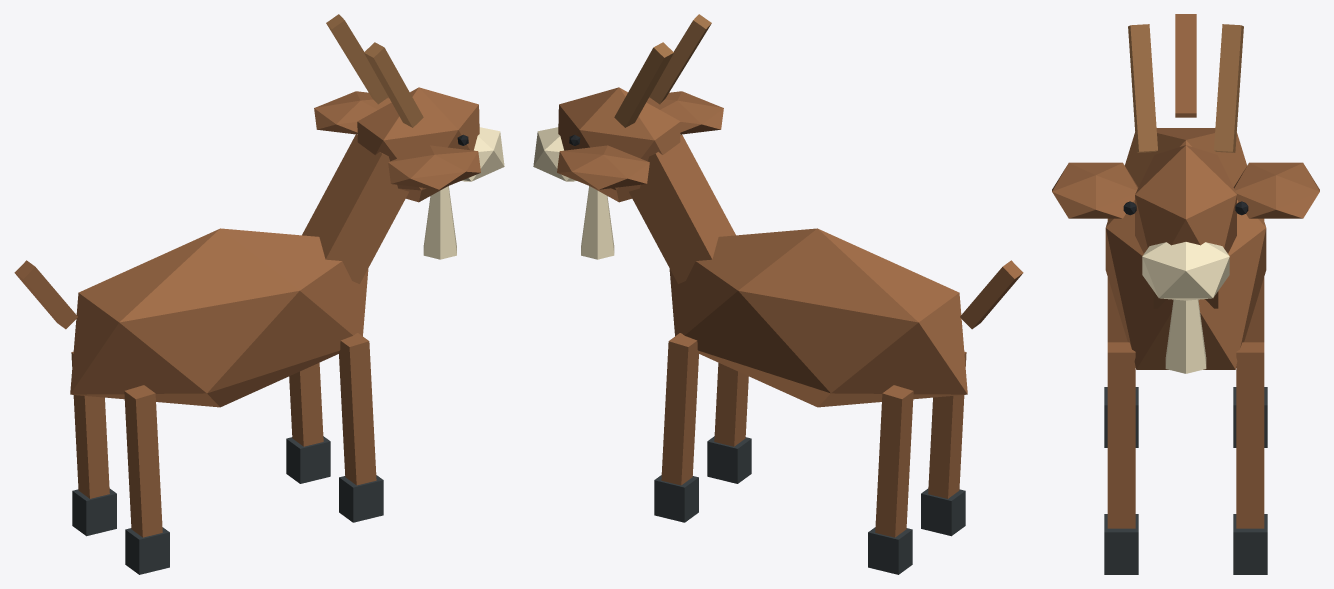
The model's file is TR3_Goat_brown.glb.
The picture shows the model from 3 angles, left to right: view 1: azimuth 30°, elevation 25°; view 2: azimuth 150°, elevation 25°; view 3: azimuth 270°, elevation 25°; orthographic projection. The views are drawn at different scales.
Visible parts, largest first — view 1: TR3_Goat_brown; view 2: TR3_Goat_brown; view 3: TR3_Goat_brown.
Part boxes in pixels (bbox=[...]): TR3_Goat_brown: bbox=[14, 14, 504, 574]; TR3_Goat_brown: bbox=[533, 14, 1023, 574]; TR3_Goat_brown: bbox=[1052, 14, 1319, 574].
Bounding box in the file's own units: 1.58 × 1.43 × 0.6242.
